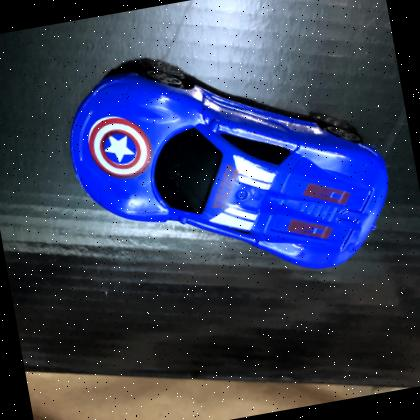Car: (69, 68, 389, 269)
